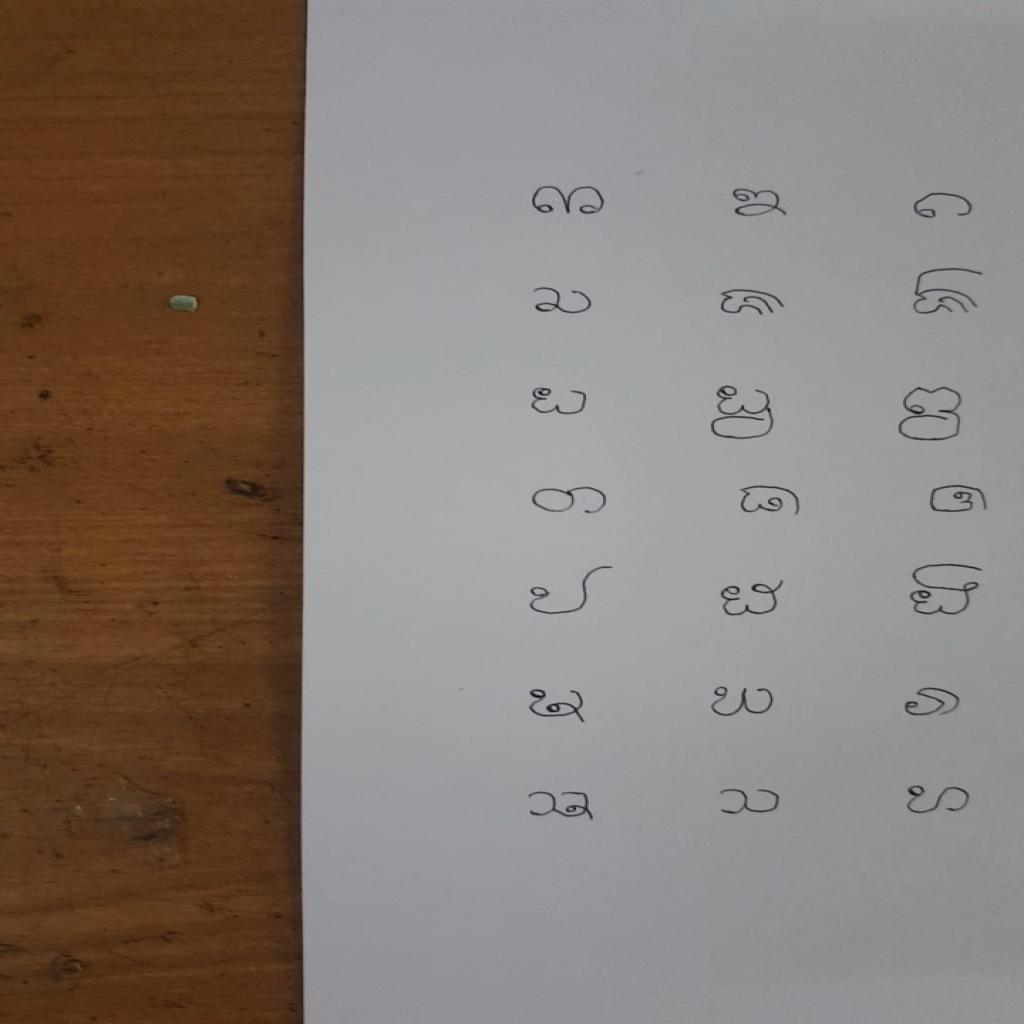LN001: (527, 184, 610, 219)
LN002: (726, 186, 794, 222)
LN003: (910, 191, 981, 222)
LN007: (527, 285, 601, 318)
LN008: (715, 287, 792, 321)
LN009: (910, 265, 991, 319)
LN013: (526, 384, 595, 419)
LN014: (707, 384, 781, 444)
LN015: (895, 385, 968, 445)
LN019: (527, 485, 614, 518)
LN020: (734, 483, 808, 519)
LN021: (924, 483, 997, 518)
LN025: (526, 564, 619, 619)
LN026: (716, 578, 790, 621)
LN027: (906, 561, 988, 620)
LN031: (524, 686, 591, 727)
LN032: (707, 683, 781, 720)
LN033: (901, 685, 968, 721)
LN037: (521, 789, 601, 825)
LN038: (713, 786, 787, 819)
LN039: (902, 783, 977, 818)
